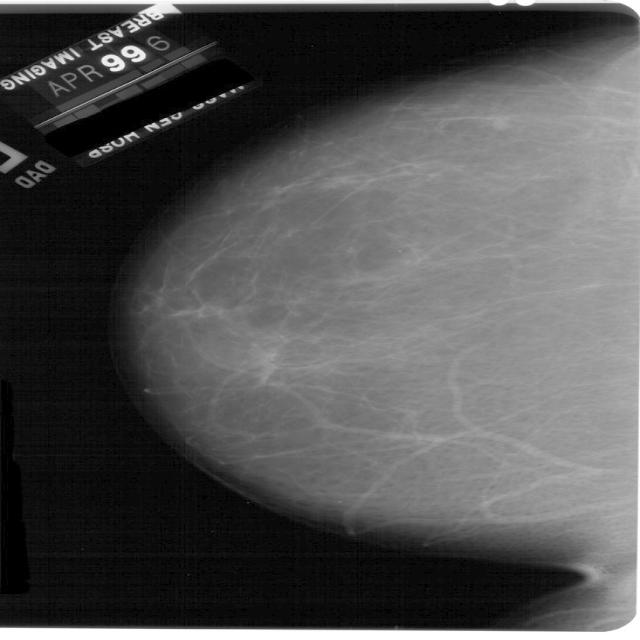tumour: (489, 116, 508, 130)
